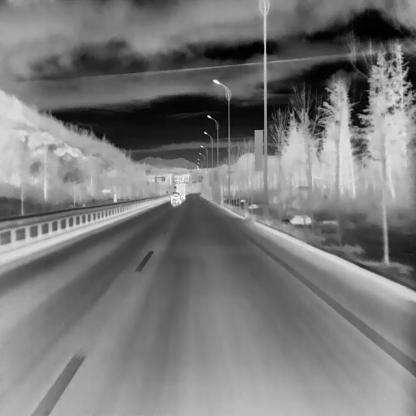car: (176, 183, 186, 200), (171, 192, 182, 205)
